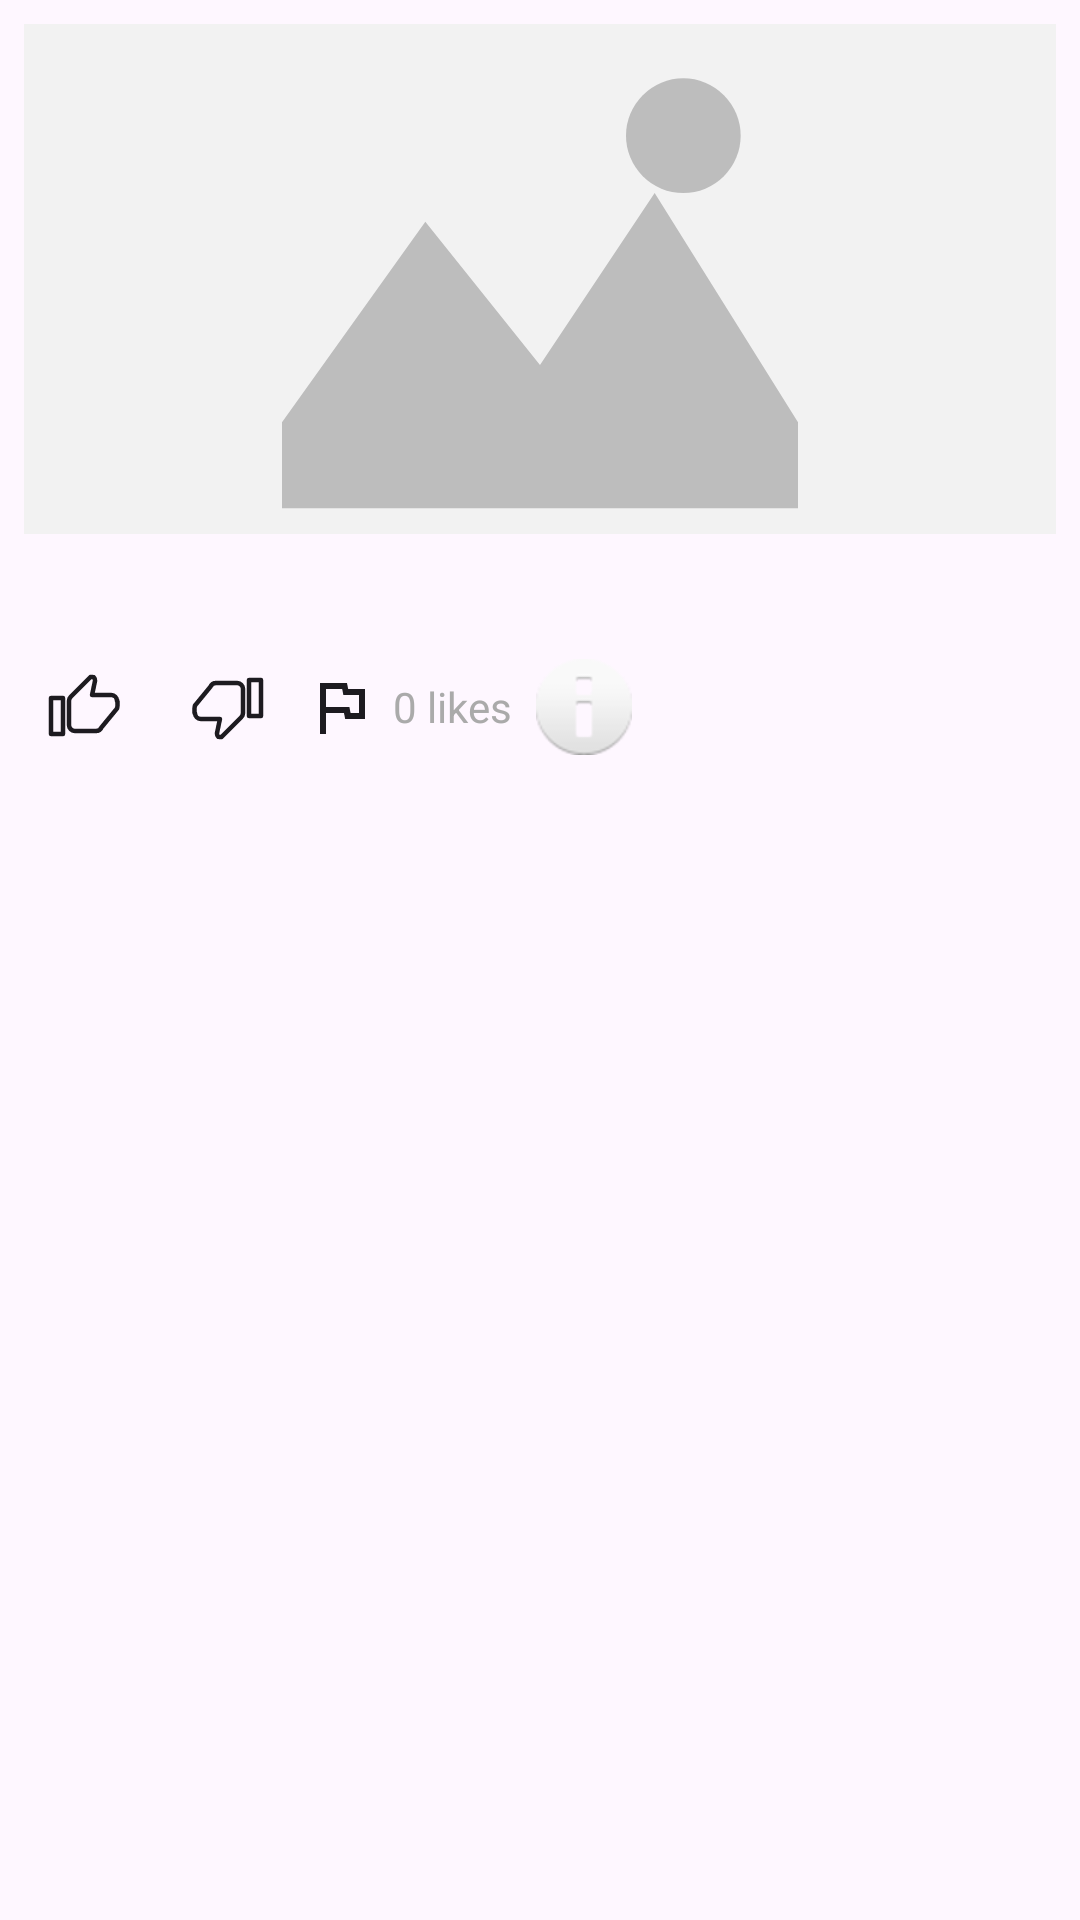

Icon click points for this 1080x1920 phone screenshot, format (x,y):
Dislike button: (228,708)
Like button: (84,705)
Report image: (342,708)
View Nutrition Info: (584,716)
